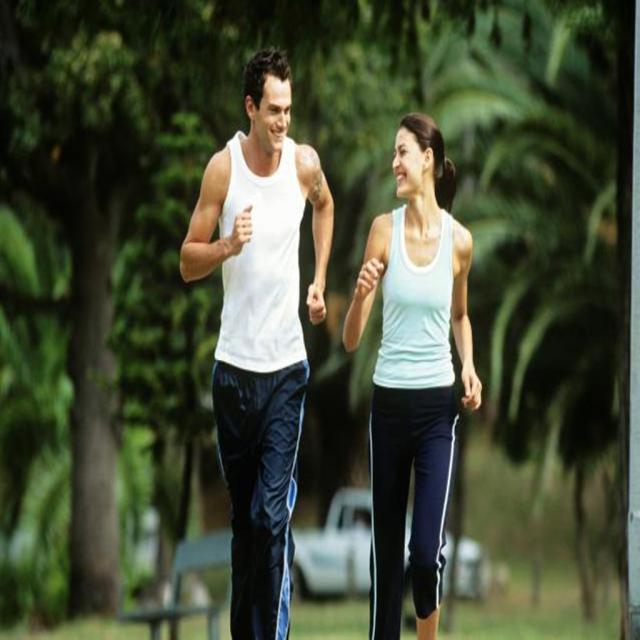Face: (248, 68, 298, 152), (389, 117, 425, 205)
